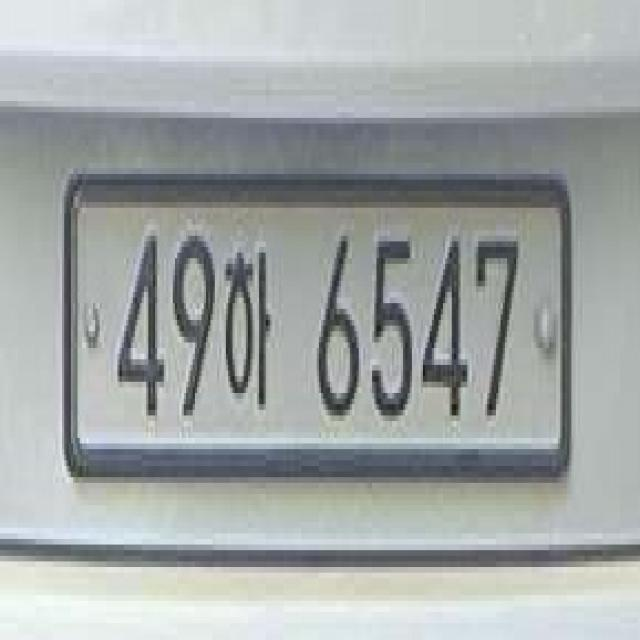4: (108, 226, 166, 432), (421, 220, 474, 434)
5: (367, 220, 417, 428)
6: (309, 220, 364, 432)
7: (476, 222, 526, 424)
9: (168, 220, 218, 430)
ha: (224, 231, 278, 414)
license_plate: (48, 152, 578, 493)
